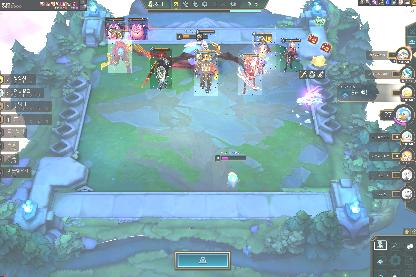1_nomsy: (105, 17, 125, 39), (128, 18, 148, 40)
1_qiyana: (196, 30, 216, 50)
2_diana: (280, 38, 300, 72)
2_hecarim: (238, 53, 262, 95)
2_nilah: (252, 32, 276, 70)
2_rell: (150, 49, 172, 89)
2_swain: (194, 50, 218, 96)
3_rengar: (108, 29, 132, 73)
